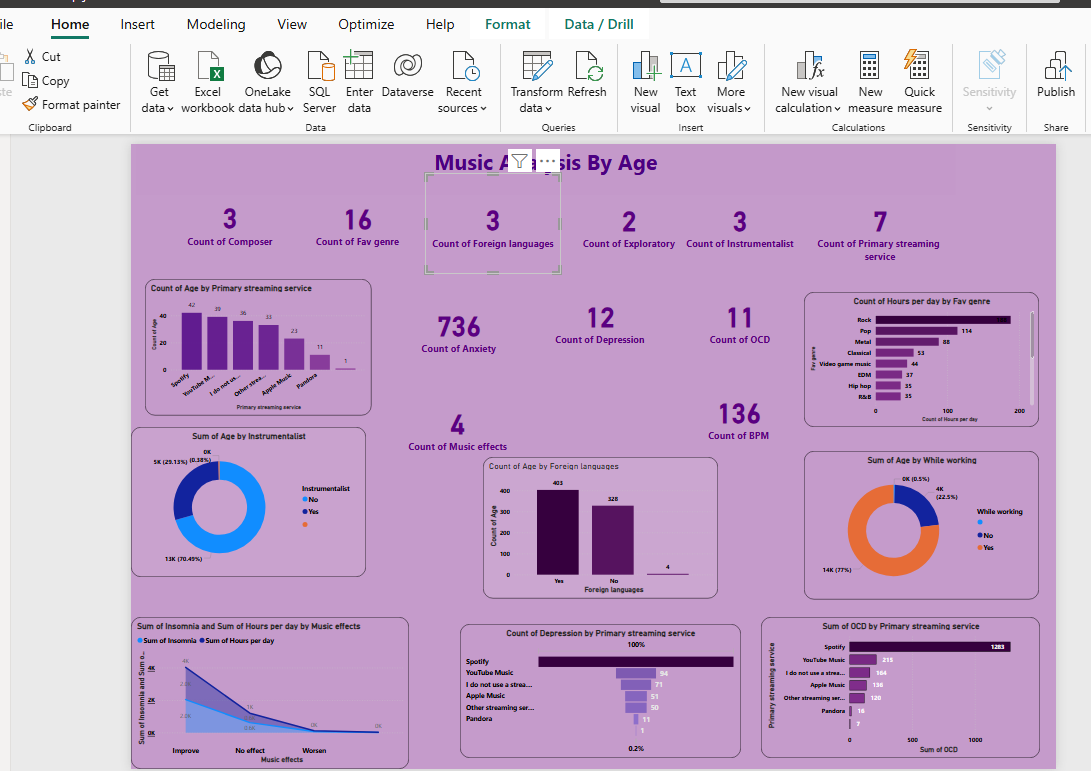

The dashboard page shown, as its layout file describes it:
{"tool":"powerbi","page":{"name":"Page 1","canvas":[1850,1250],"ordinal":0},"visuals":[{"type":"textbox","box":[9.7,0,1639.5,102.3],"z":0},{"type":"clusteredColumnChart","fields":{"Y":["Count(mosic mental helth.Age)"],"Category":["mosic mental helth.Primary streaming service"]},"box":[27.5,270,452.5,272.5],"z":1000},{"type":"clusteredBarChart","fields":{"Category":["mosic mental helth.Fav genre"],"Y":["CountNonNull(mosic mental helth.Hours per day)"]},"box":[1346.7,296.7,470,270],"z":2000},{"type":"funnel","fields":{"Category":["mosic mental helth.Primary streaming service"],"Y":["CountNonNull(mosic mental helth.Depression)"]},"box":[658,960,562,268],"z":3000},{"type":"stackedAreaChart","fields":{"Category":["mosic mental helth.Music effects"],"Y":["Sum(mosic mental helth.Insomnia)","Sum(mosic mental helth.Hours per day)"]},"box":[0,946,556,304],"z":4000},{"type":"donutChart","fields":{"Series":["mosic mental helth.While working"],"Y":["Sum(mosic mental helth.Age)"]},"box":[1346.7,613.3,470,296.7],"z":5000},{"type":"clusteredBarChart","fields":{"Category":["mosic mental helth.Primary streaming service"],"Y":["Sum(mosic mental helth.OCD)"]},"box":[1260,946,558,282],"z":6000},{"type":"donutChart","fields":{"Category":["mosic mental helth.Instrumentalist"],"Y":["Sum(mosic mental helth.Age)"]},"box":[0,566.7,470,300],"z":7000},{"type":"lineClusteredColumnComboChart","fields":{"Category":["mosic mental helth.Foreign languages"],"Y":["CountNonNull(mosic mental helth.Age)"]},"box":[703.3,626.7,470,283.3],"z":8000},{"type":"card","fields":{"Values":["Count(mosic mental helth.Composer)"]},"box":[56,68,284,174],"z":9000},{"type":"card","fields":{"Values":["Count(mosic mental helth.Foreign languages)"]},"box":[588,58,272,202],"z":10000},{"type":"card","fields":{"Values":["Count(mosic mental helth.Fav genre)"]},"box":[300,46,306,220],"z":11000},{"type":"card","fields":{"Values":["Count(mosic mental helth.Instrumentalist)"]},"box":[1066,50,304,220],"z":12000},{"type":"card","fields":{"Values":["Count(mosic mental helth.Exploratory)"]},"box":[860,78,272,164],"z":13000},{"type":"card","fields":{"Values":["Count(mosic mental helth.OCD)"]},"box":[1066,242,304,220],"z":14000},{"type":"card","fields":{"Values":["Count(mosic mental helth.Music effects)"]},"box":[500,456.7,306.7,220],"z":15000},{"type":"card","fields":{"Values":["Count(mosic mental helth.Primary streaming service)"]},"box":[1346,50,304,220],"z":16000},{"type":"card","fields":{"Values":["Count(mosic mental helth.Depression)"]},"box":[786,242,304,220],"z":16001},{"type":"card","fields":{"Values":["Count(mosic mental helth.BPM)"]},"box":[1063.3,433.3,303.3,220],"z":16002},{"type":"card","fields":{"Values":["CountNonNull(mosic mental helth.Anxiety)"]},"box":[503.3,260,303.3,220],"z":16003}]}

Visuals, with their boxes on the page's 1850x1250 design canvas (x1, y1, x2, y2). These are canvas units, not pixel positions in the 1091x771 screenshot, which may show the page scaled, cropped or inside an application window:
textbox: pyautogui.locateOnScreen(10, 0, 1649, 102)
clusteredColumnChart - Count(mosic mental helth.Age) x mosic mental helth.Primary streaming service: pyautogui.locateOnScreen(28, 270, 480, 542)
clusteredBarChart - mosic mental helth.Fav genre x CountNonNull(mosic mental helth.Hours per day): pyautogui.locateOnScreen(1347, 297, 1817, 567)
funnel - mosic mental helth.Primary streaming service x CountNonNull(mosic mental helth.Depression): pyautogui.locateOnScreen(658, 960, 1220, 1228)
stackedAreaChart - mosic mental helth.Music effects x Sum(mosic mental helth.Insomnia): pyautogui.locateOnScreen(0, 946, 556, 1250)
donutChart - mosic mental helth.While working x Sum(mosic mental helth.Age): pyautogui.locateOnScreen(1347, 613, 1817, 910)
clusteredBarChart - mosic mental helth.Primary streaming service x Sum(mosic mental helth.OCD): pyautogui.locateOnScreen(1260, 946, 1818, 1228)
donutChart - mosic mental helth.Instrumentalist x Sum(mosic mental helth.Age): pyautogui.locateOnScreen(0, 567, 470, 867)
lineClusteredColumnComboChart - mosic mental helth.Foreign languages x CountNonNull(mosic mental helth.Age): pyautogui.locateOnScreen(703, 627, 1173, 910)
card - Count(mosic mental helth.Composer): pyautogui.locateOnScreen(56, 68, 340, 242)
card - Count(mosic mental helth.Foreign languages): pyautogui.locateOnScreen(588, 58, 860, 260)
card - Count(mosic mental helth.Fav genre): pyautogui.locateOnScreen(300, 46, 606, 266)
card - Count(mosic mental helth.Instrumentalist): pyautogui.locateOnScreen(1066, 50, 1370, 270)
card - Count(mosic mental helth.Exploratory): pyautogui.locateOnScreen(860, 78, 1132, 242)
card - Count(mosic mental helth.OCD): pyautogui.locateOnScreen(1066, 242, 1370, 462)
card - Count(mosic mental helth.Music effects): pyautogui.locateOnScreen(500, 457, 807, 677)
card - Count(mosic mental helth.Primary streaming service): pyautogui.locateOnScreen(1346, 50, 1650, 270)
card - Count(mosic mental helth.Depression): pyautogui.locateOnScreen(786, 242, 1090, 462)
card - Count(mosic mental helth.BPM): pyautogui.locateOnScreen(1063, 433, 1367, 653)
card - CountNonNull(mosic mental helth.Anxiety): pyautogui.locateOnScreen(503, 260, 807, 480)
